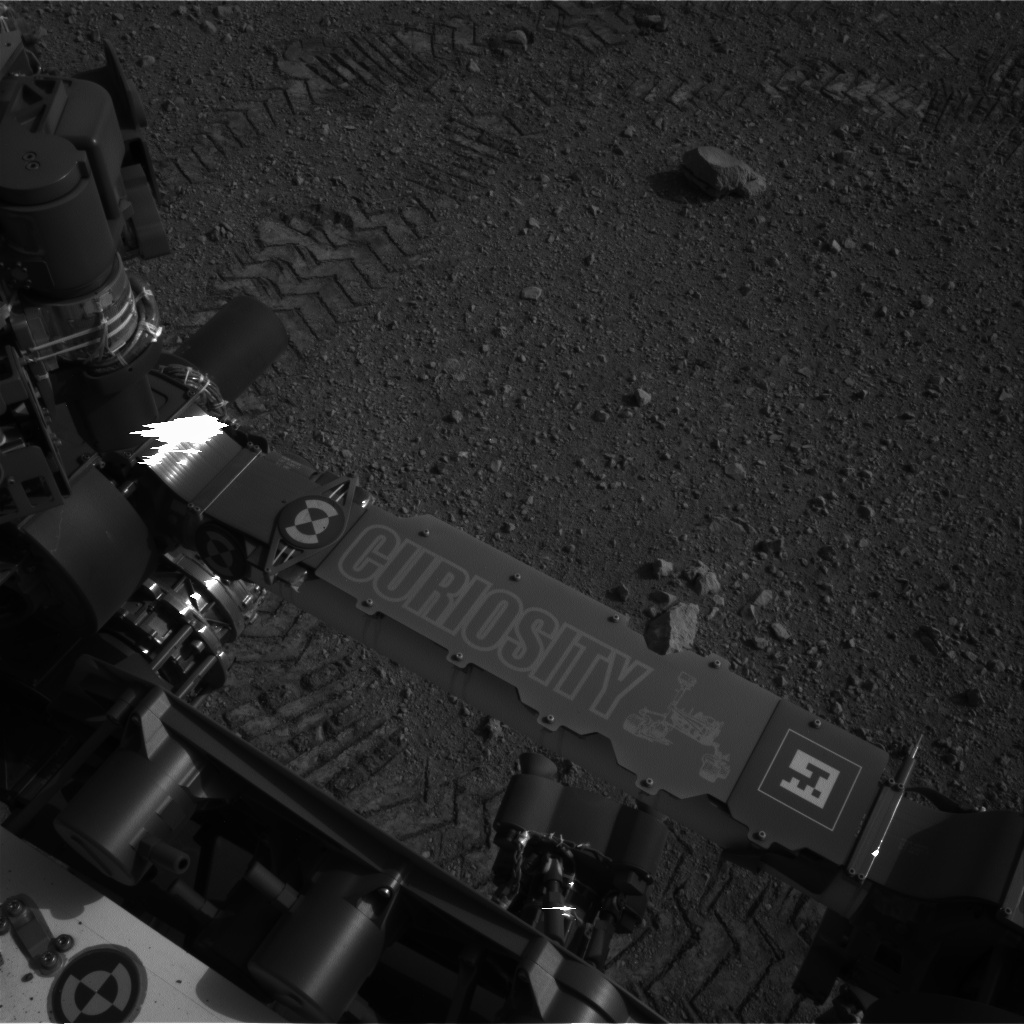soil: (276, 5, 1018, 741)
